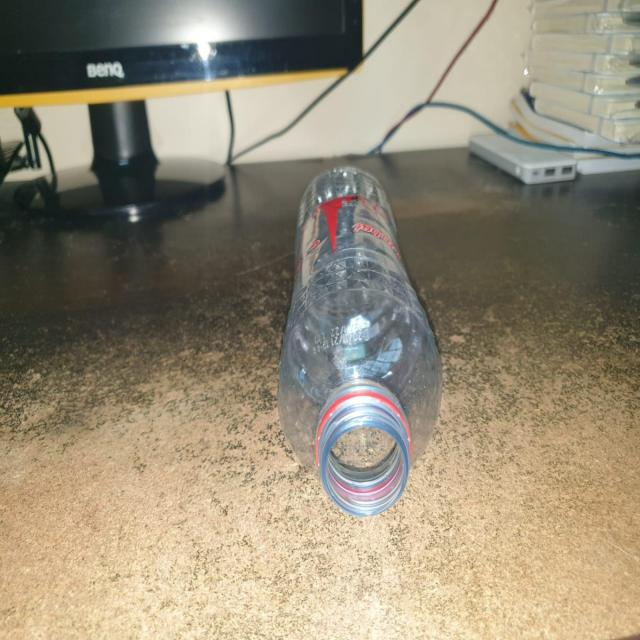bottle: (279, 141, 436, 504)
